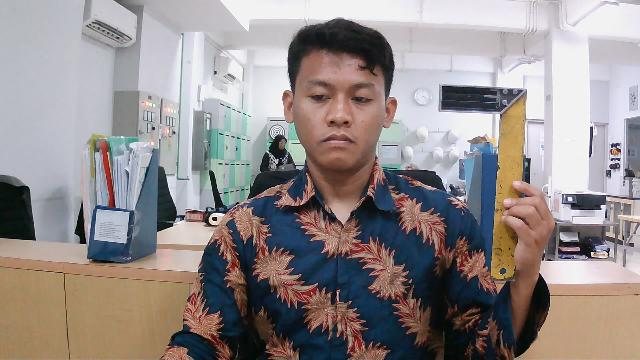penggaris_siku: (435, 77, 554, 283)
